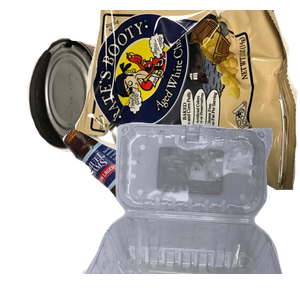glass: (60, 120, 300, 300)
metal: (25, 35, 189, 180)
plastic: (80, 120, 300, 300)
trash: (75, 10, 300, 190)
